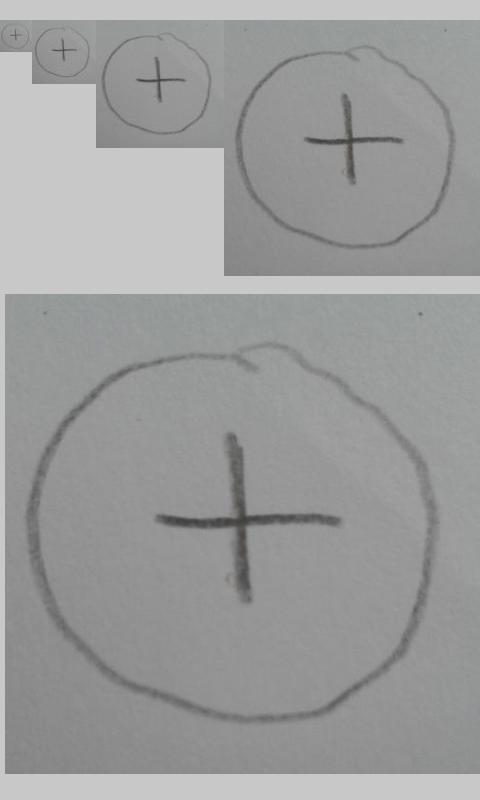button: (25, 340, 441, 725), (234, 44, 455, 250), (100, 31, 213, 136), (34, 26, 90, 78), (1, 23, 30, 50)
